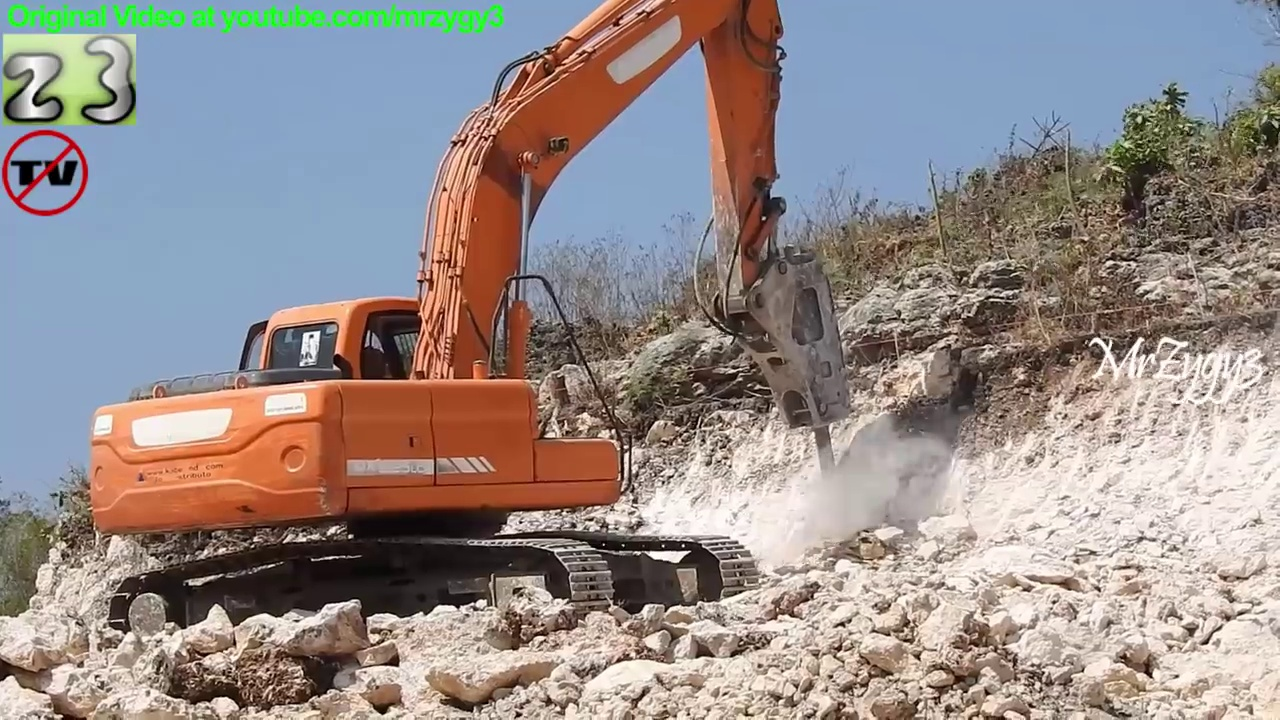excavator: (82, 1, 864, 651)
